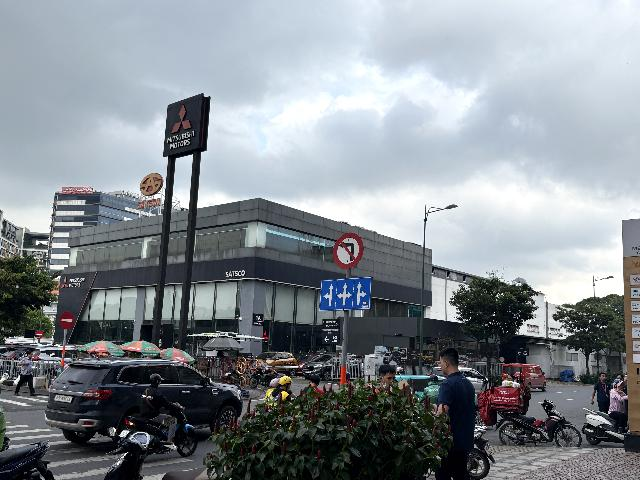cam-di-nguoc-chieu: (59, 311, 75, 329)
cam-re-trai: (333, 232, 364, 269)
